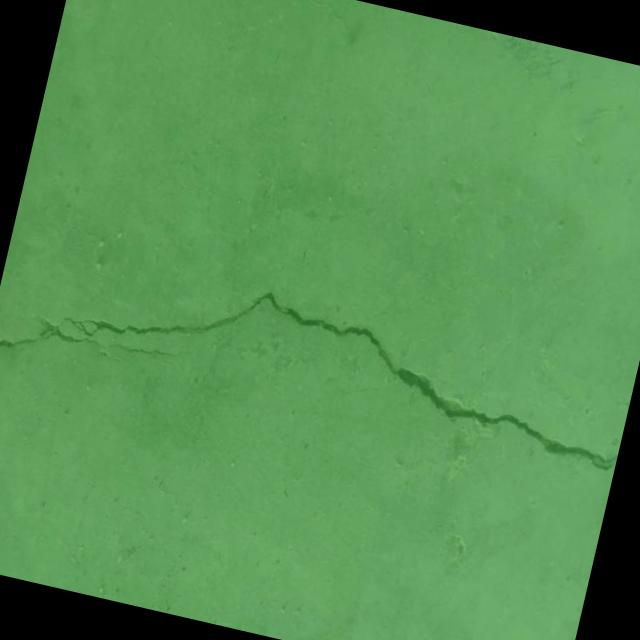crack: (0, 231, 635, 491)
